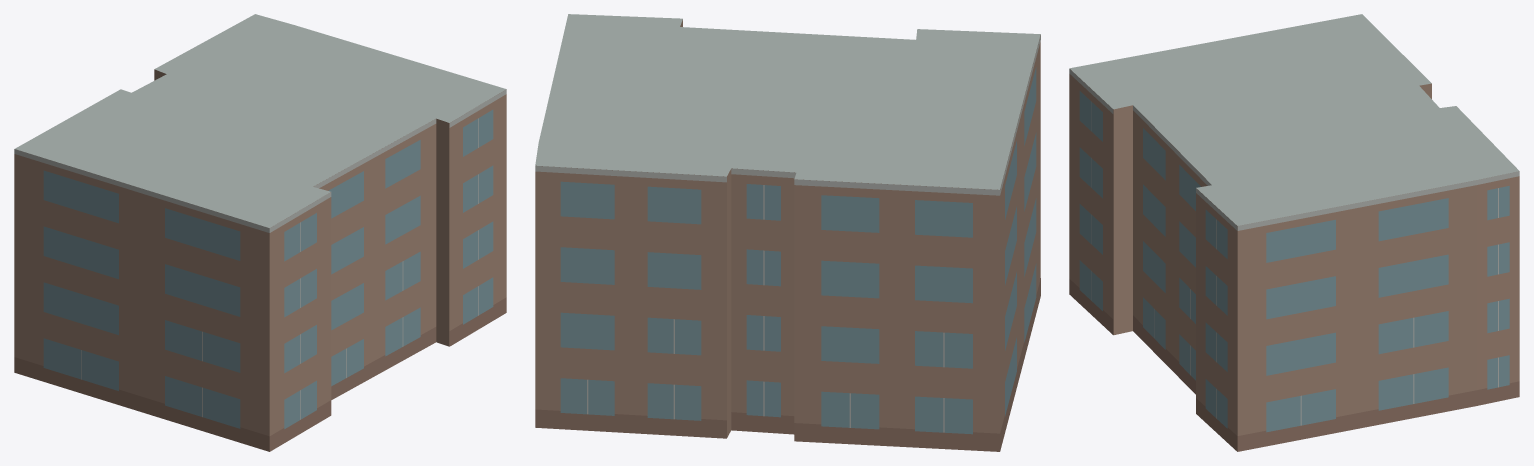
The model's file is survey-upis-32464137.glb.
The picture shows the model from 3 angles, left to right: view 1: azimuth 30°, elevation 25°; view 2: azimuth 150°, elevation 25°; view 3: azimuth 270°, elevation 25°; orthographic projection. The views are drawn at different scales.
Parts seen in each view (by area): view 1: survey-upis-32464137.tmp; view 2: survey-upis-32464137.tmp; view 3: survey-upis-32464137.tmp.
Boxes of the visible parts, x1=… form: survey-upis-32464137.tmp: x1=14, y1=14, x2=506, y2=451; survey-upis-32464137.tmp: x1=535, y1=14, x2=1040, y2=451; survey-upis-32464137.tmp: x1=1069, y1=14, x2=1519, y2=451.
Size of the model in its own units: 22.15 by 11 by 19.89.
